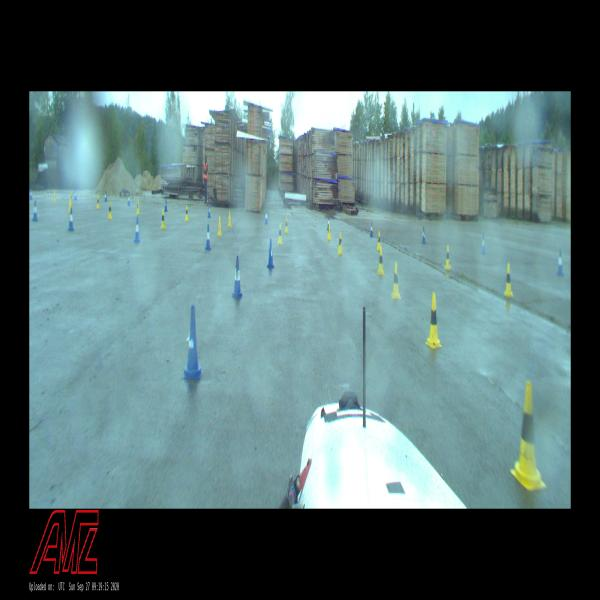blue_cone: (183, 305, 201, 378), (232, 256, 243, 298), (266, 239, 275, 268), (556, 249, 564, 276), (134, 216, 140, 242), (205, 224, 211, 250), (68, 208, 74, 231), (480, 233, 486, 254), (33, 199, 38, 220), (421, 226, 426, 244), (207, 204, 211, 219), (164, 198, 168, 212), (265, 210, 268, 225), (370, 222, 373, 236), (327, 217, 330, 229), (104, 192, 107, 202), (30, 189, 32, 200), (128, 194, 130, 204), (75, 190, 77, 200)
yellow_cone: (510, 382, 546, 490), (425, 293, 442, 348), (391, 262, 401, 299), (504, 263, 513, 297), (377, 248, 384, 274), (444, 245, 451, 270), (338, 232, 343, 255), (217, 217, 222, 236), (278, 223, 282, 244), (161, 210, 165, 229), (108, 201, 112, 219), (284, 216, 288, 233), (185, 205, 189, 221), (228, 211, 232, 227), (96, 195, 100, 209), (377, 232, 380, 250), (52, 190, 56, 203), (328, 223, 331, 240), (137, 200, 140, 215), (69, 199, 71, 212), (70, 192, 72, 205)
